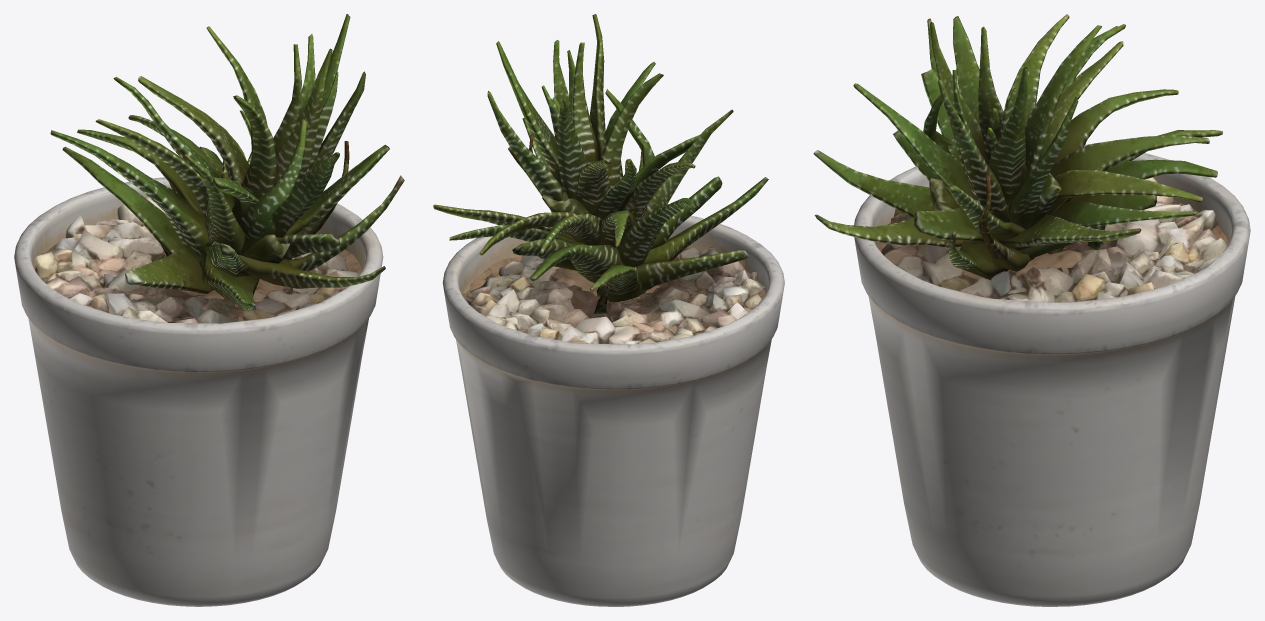
Rendered from potted_plant_04.glb.
The picture shows the model from 3 angles, left to right: view 1: azimuth 30°, elevation 25°; view 2: azimuth 150°, elevation 25°; view 3: azimuth 270°, elevation 25°; orthographic projection. The views are drawn at different scales.
Visible parts, largest first — view 1: potted_plant_04_ground; view 2: potted_plant_04_ground; view 3: potted_plant_04_ground.
Part boxes in pixels (x1,y1,x2,y2): potted_plant_04_ground: (14, 14, 404, 606); potted_plant_04_ground: (433, 14, 784, 606); potted_plant_04_ground: (813, 14, 1250, 606).
Size of the model in its own units: 0.1679 by 0.2675 by 0.1847.
1 material, 1 textured.
